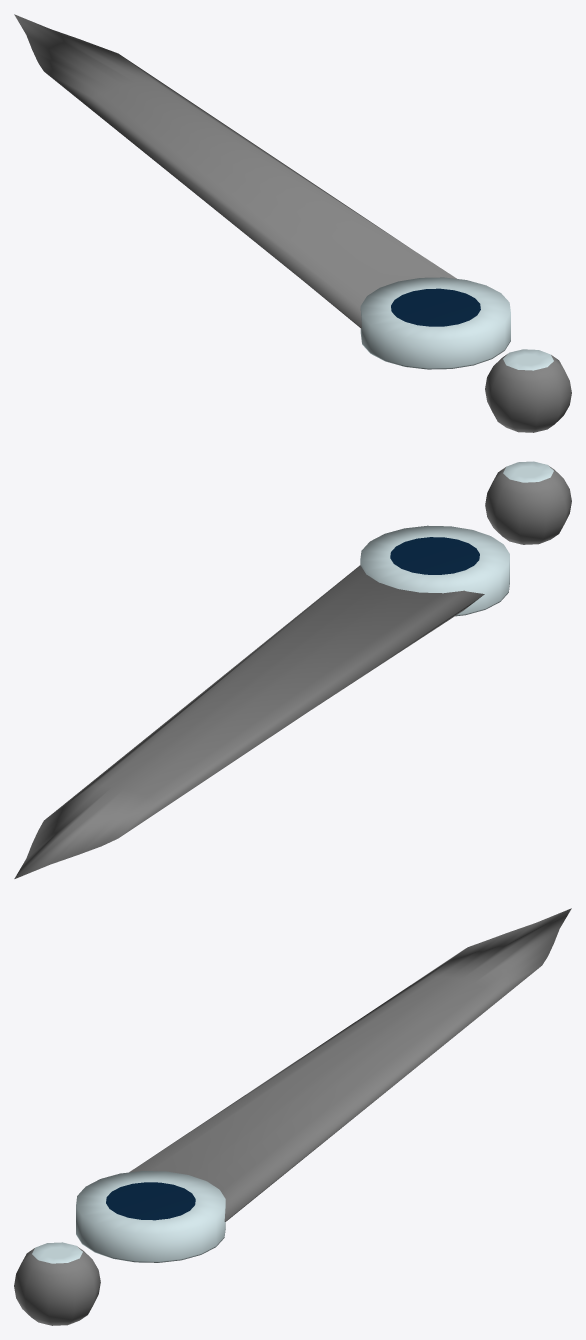
Rendered from roundsword.fbx.
3 views of the same model, one above another, from view 1: azimuth 30°, elevation 25°; view 2: azimuth 150°, elevation 25°; view 3: azimuth 330°, elevation 25° (orthographic).
Parts seen in each view (by area): view 1: round_sword; view 2: round_sword; view 3: round_sword.
Part boxes in pixels (x1,y1,x2,y2): round_sword: [14, 14, 571, 432]; round_sword: [14, 461, 571, 878]; round_sword: [14, 908, 571, 1325].
Bounding box in the file's own units: 0.3748 × 0.1707 × 2.66.
